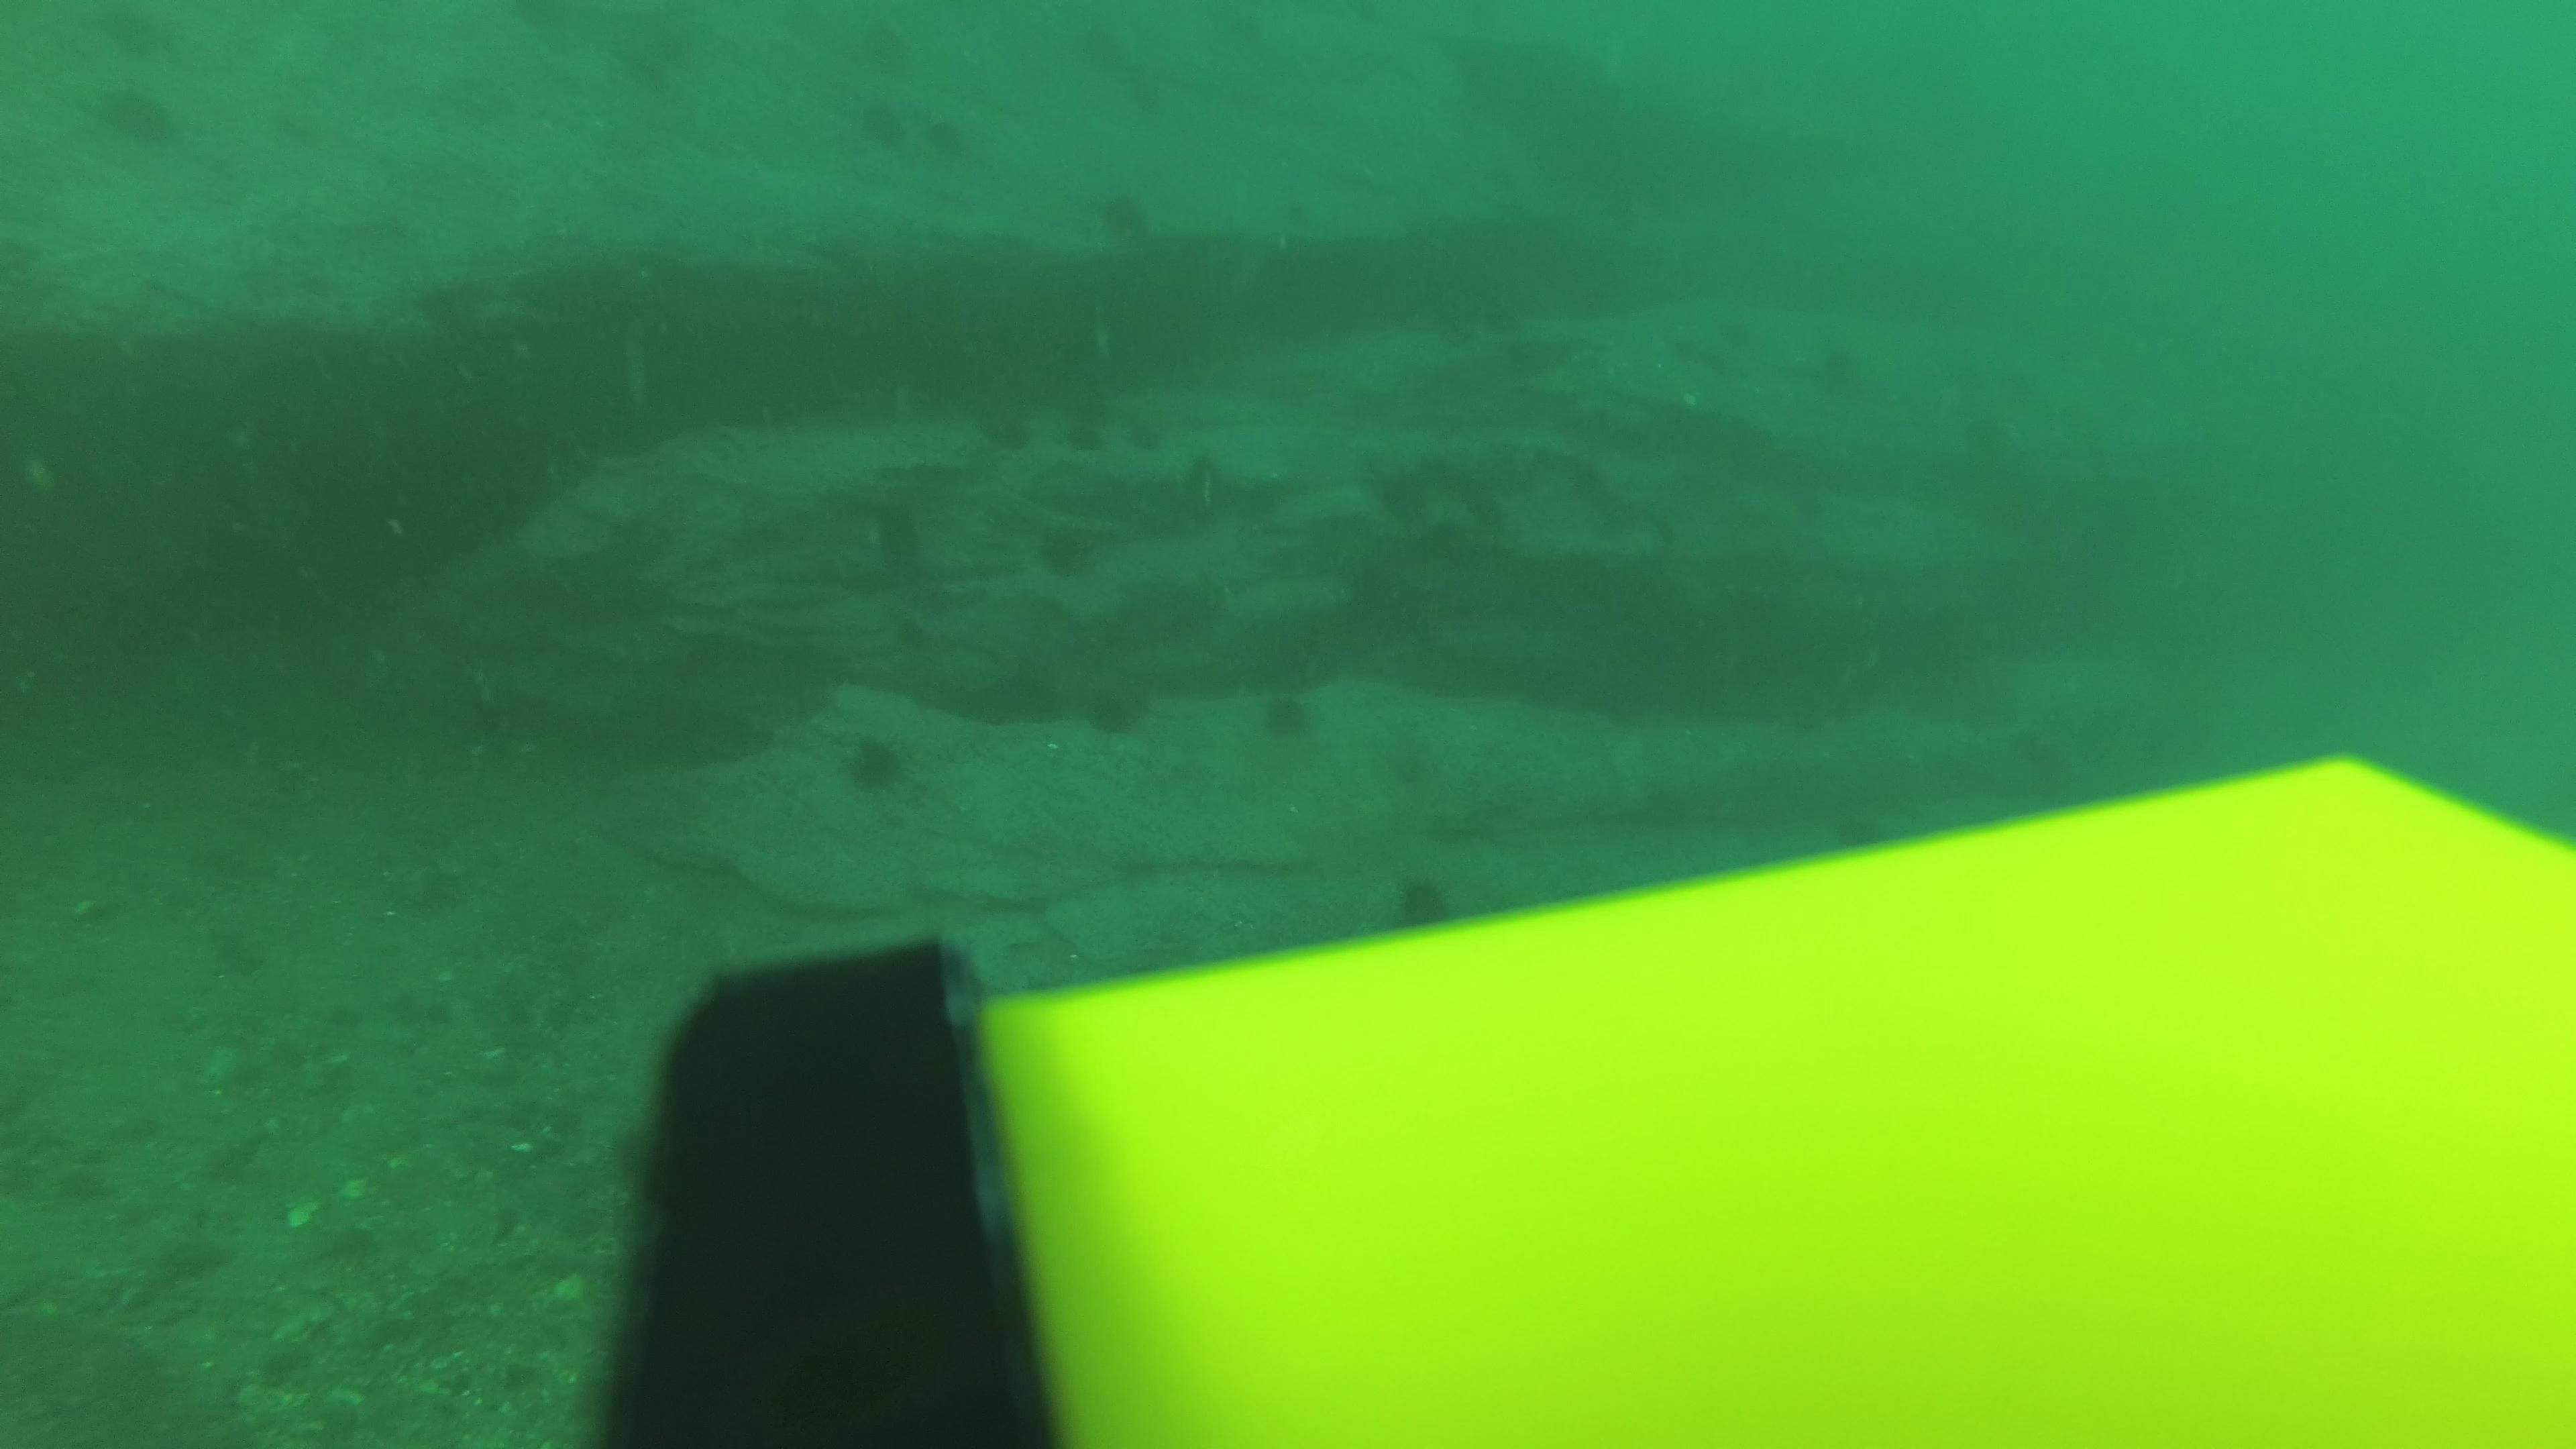echinus: (87, 76, 188, 156), (833, 725, 918, 800), (1382, 863, 1463, 932), (1076, 672, 1157, 741), (1247, 681, 1325, 750), (1033, 511, 1108, 577), (860, 506, 936, 570), (1829, 810, 1882, 858), (1123, 419, 1168, 455), (984, 414, 1028, 449), (1102, 189, 1146, 225), (869, 25, 913, 60), (1433, 317, 1477, 352), (1484, 303, 1529, 338), (1382, 483, 1426, 518), (1969, 412, 2013, 448), (1065, 421, 1108, 456), (927, 117, 970, 152), (862, 103, 904, 138), (869, 23, 911, 58), (1460, 490, 1502, 525), (1824, 345, 1867, 380)
